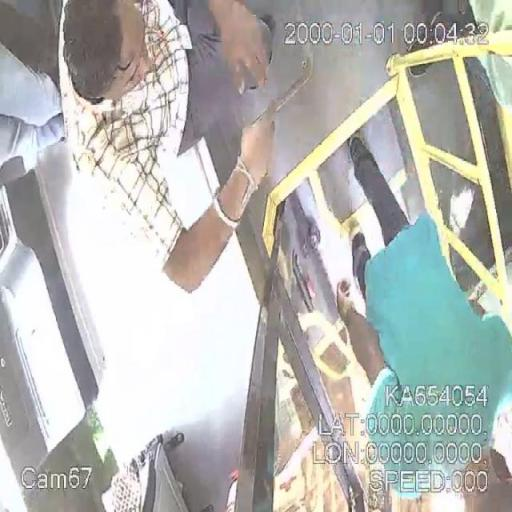persona: (1, 0, 288, 295), (342, 132, 511, 510)
